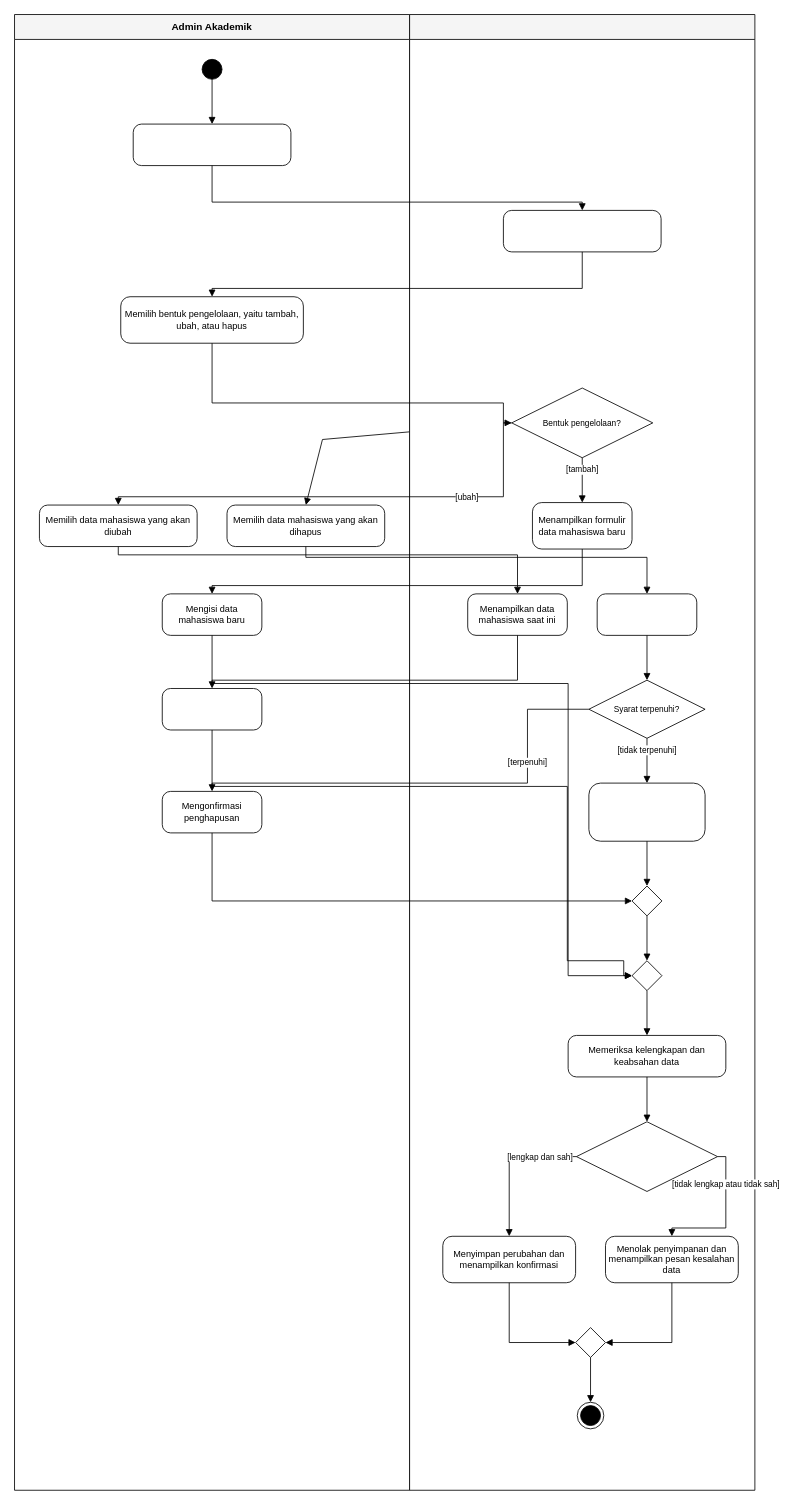
Image size: 794x1505. Some labels were removed from this diagram. Here are the shapes that lost their labels. From the top down, the box of each, then its label:
(132, 123, 291, 166): Membuka fungsi Kelola Data Mahasiswa
(503, 210, 661, 252): Menampilkan daftar data mahasiswa
(596, 593, 697, 635): Memeriksa tidak ada data akademik aktif
(161, 688, 262, 730): Mengubah data mahasiswa
(409, 14, 755, 1490): Sistem
(588, 782, 705, 841): Menolak penghapusan dan menampilkan pesan masih memiliki data akademik aktif
(576, 1121, 718, 1191): Data lengkap dan sah?
